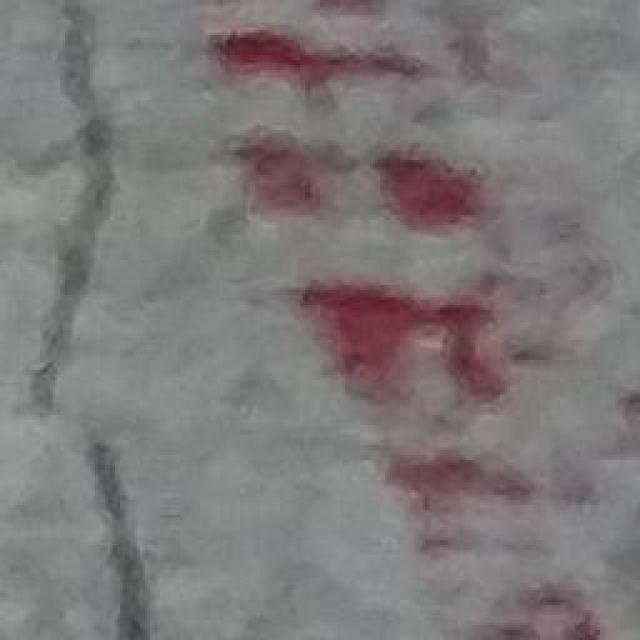Longitudinal: (39, 0, 166, 640)
Rippled: (211, 0, 624, 640)
